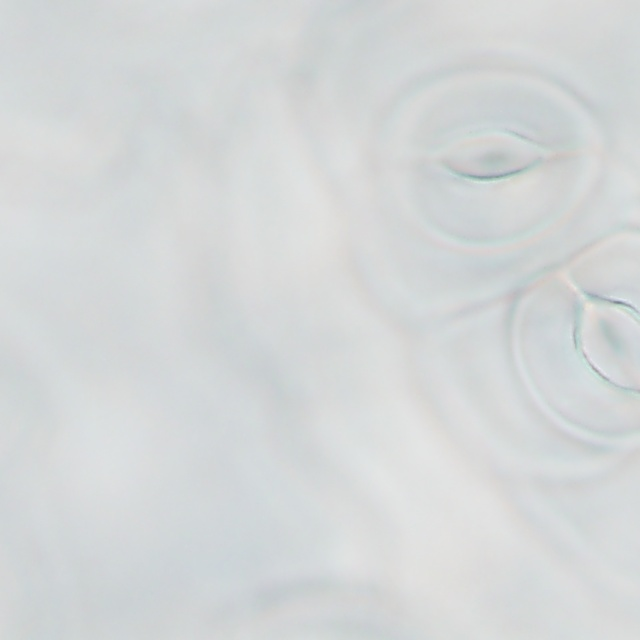center: (429, 128, 551, 181), (291, 608, 379, 616)
stomata-huw1: (381, 69, 601, 247), (513, 230, 639, 442), (237, 585, 433, 639)
